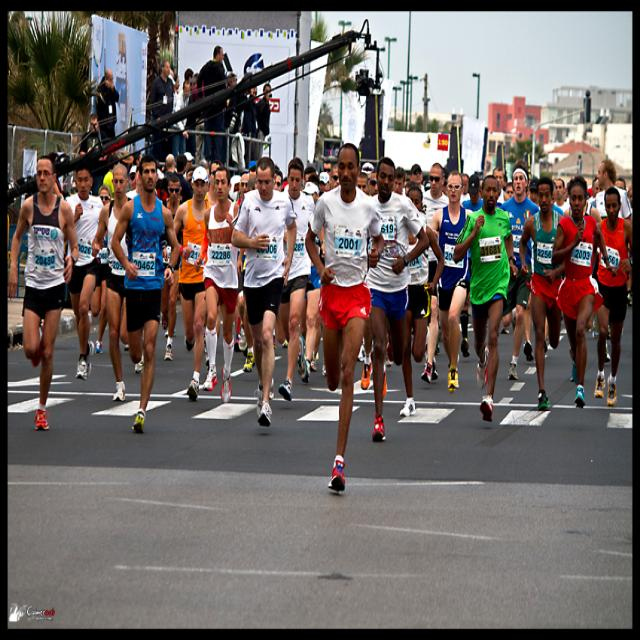Bib: (335, 234, 360, 252), (533, 248, 553, 264), (573, 249, 593, 264), (481, 245, 502, 259), (135, 258, 155, 272), (601, 252, 620, 266), (34, 254, 56, 266), (214, 247, 232, 261)
